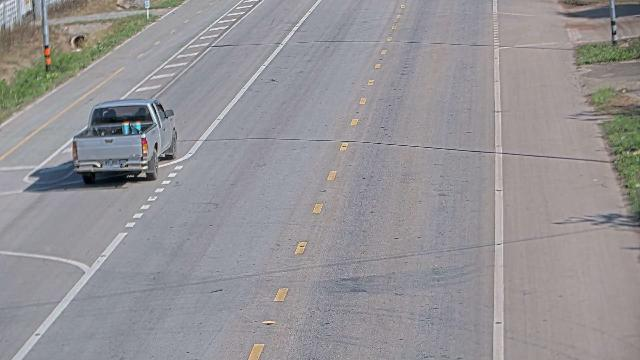pickup-truck: (71, 97, 178, 184)
